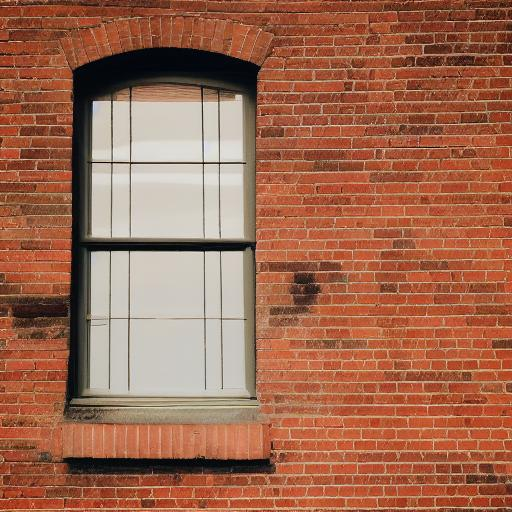Window: (62, 15, 277, 466)
